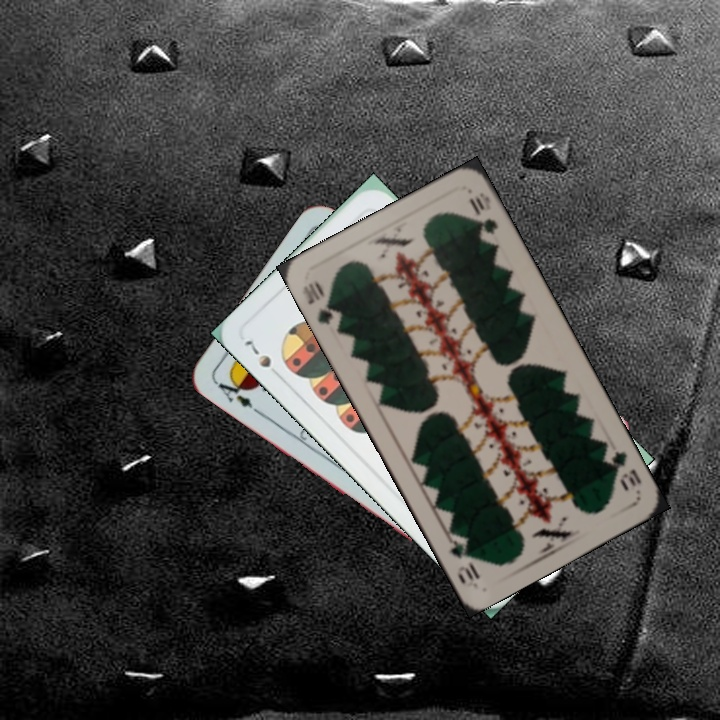EA: (212, 373, 256, 412)
G10: (298, 276, 344, 329), (604, 447, 644, 494)
S7: (241, 336, 274, 370)
